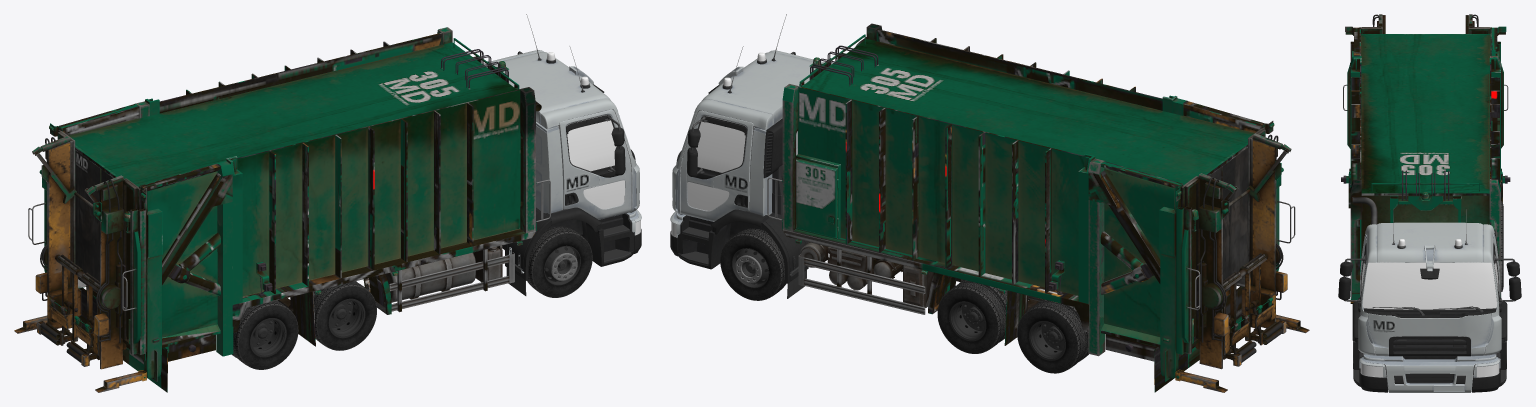
File: SK_GarbageTruck.fbx
3 views of the same model, side by side, from view 1: azimuth 30°, elevation 25°; view 2: azimuth 150°, elevation 25°; view 3: azimuth 270°, elevation 25° (orthographic). The views are drawn at different scales.
Parts seen in each view (by area): view 1: SM_Trash_2_LOD0, SkeletalMeshComponent0; view 2: SM_Trash_2_LOD0, SkeletalMeshComponent0; view 3: SM_Trash_2_LOD0, SkeletalMeshComponent0.
Part boxes in pixels (left/top/right/bottom): SM_Trash_2_LOD0: left=14, top=27, right=550, bottom=392; SkeletalMeshComponent0: left=232, top=14, right=641, bottom=369; SM_Trash_2_LOD0: left=767, top=23, right=1309, bottom=392; SkeletalMeshComponent0: left=670, top=14, right=1088, bottom=373; SM_Trash_2_LOD0: left=1341, top=14, right=1510, bottom=303; SkeletalMeshComponent0: left=1338, top=201, right=1521, bottom=392.
Bounding box in the file's own units: 1001 × 395 × 342.
Materials: 7 (6 with a texture image).
